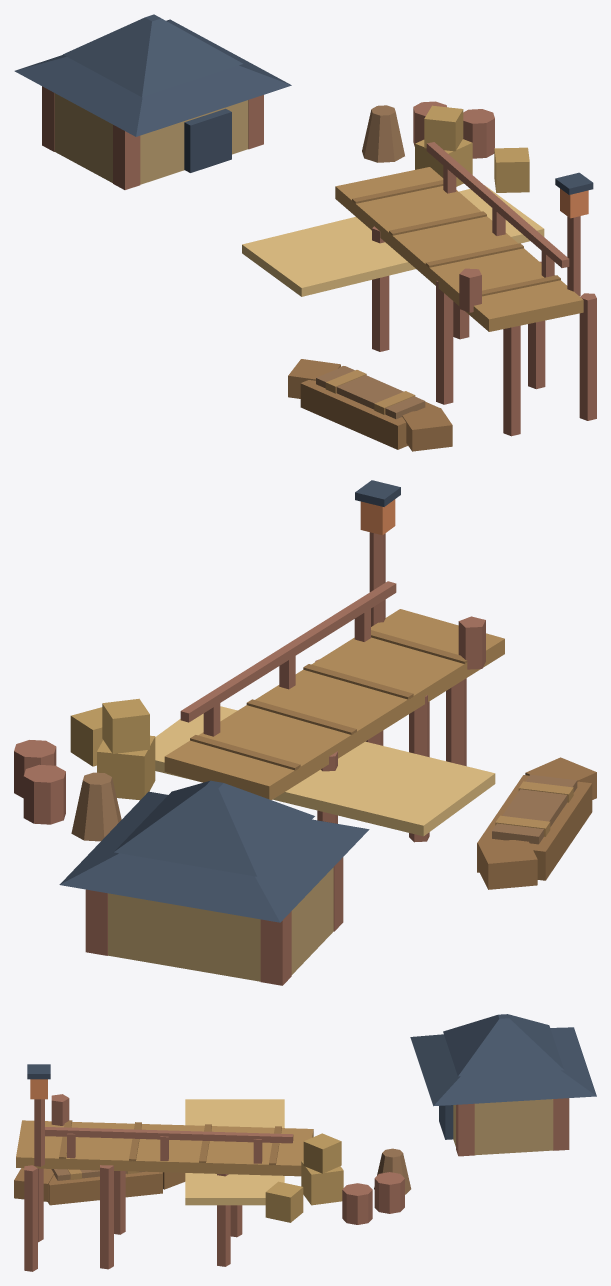
Rendered from port-small.glb.
3 renders of one model, top to bottom at view 1: azimuth 30°, elevation 25°; view 2: azimuth 150°, elevation 25°; view 3: azimuth 270°, elevation 25°, orthographic. The views are drawn at different scales.
Visible parts, largest first — view 1: pier_deck, house_eave, shore_sand, house_roof, house_body, boat_hull, house_door, rail_bar, pier_post_5, boat_inner, pier_post_2, pier_post_4 (+20 smaller); view 2: pier_deck, house_eave, shore_sand, house_body, house_roof, rail_bar, boat_hull, boat_inner, boat_bow, jar, crate_1, barrel_1 (+17 smaller); view 3: pier_deck, house_eave, house_roof, shore_sand, house_body, rail_bar, boat_hull, pier_post_5, pier_post_3, crate_1, crate_3, crate_2 (+16 smaller).
Part boxes in pixels (x1,y1,x2,y2): pier_deck: [335, 167, 583, 331]; house_eave: [14, 19, 291, 136]; shore_sand: [242, 185, 544, 296]; house_roof: [63, 14, 242, 97]; house_body: [54, 93, 248, 184]; boat_hull: [300, 366, 439, 449]; house_door: [184, 108, 231, 172]; rail_bar: [426, 142, 569, 267]; pier_post_5: [579, 293, 596, 420]; boat_inner: [316, 366, 425, 419]; pier_post_2: [436, 281, 453, 404]; pier_post_4: [503, 325, 520, 436]; pier_deck: [164, 609, 504, 799]; house_eave: [59, 791, 369, 922]; shore_sand: [155, 706, 495, 836]; house_body: [108, 867, 333, 981]; house_roof: [114, 780, 314, 876]; rail_bar: [180, 581, 396, 722]; boat_hull: [477, 775, 592, 880]; boat_inner: [492, 774, 577, 844]; boat_bow: [477, 840, 537, 889]; jar: [71, 772, 121, 841]; crate_1: [97, 735, 155, 800]; barrel_1: [23, 764, 65, 824]; pier_deck: [16, 1120, 313, 1176]; house_eave: [410, 1027, 596, 1106]; house_roof: [443, 1014, 563, 1076]; shore_sand: [185, 1099, 284, 1205]; house_body: [453, 1099, 553, 1155]; rail_bar: [45, 1127, 293, 1143]; boat_hull: [48, 1171, 162, 1205]; pier_post_5: [24, 1165, 37, 1271]; pier_post_3: [100, 1165, 113, 1269]; crate_1: [301, 1160, 343, 1205]; crate_3: [265, 1181, 303, 1222]; crate_2: [303, 1133, 341, 1173].
Size of the model in its own units: 0.5757 by 0.37 by 0.9977.
